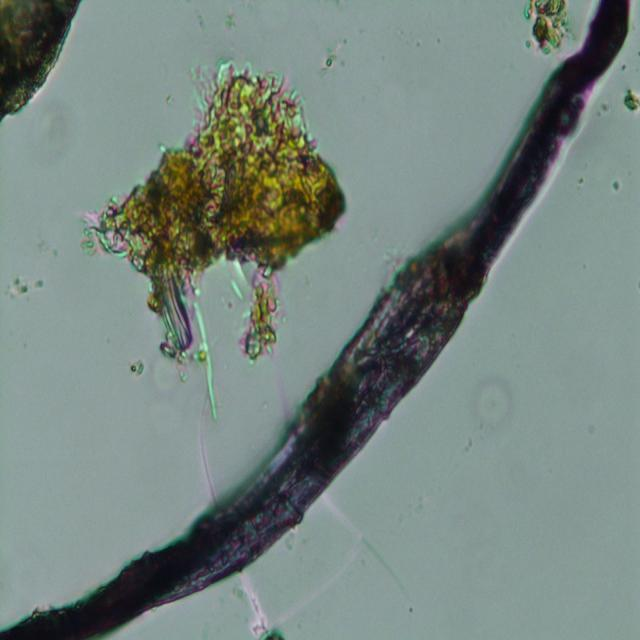Background material: (79, 59, 348, 413), (472, 363, 518, 438), (239, 574, 285, 638), (520, 2, 574, 55), (0, 249, 40, 305), (118, 355, 146, 381), (622, 86, 640, 112), (605, 177, 623, 194)
Cotton: (0, 0, 633, 638)
Diatom: (0, 1, 82, 126)
